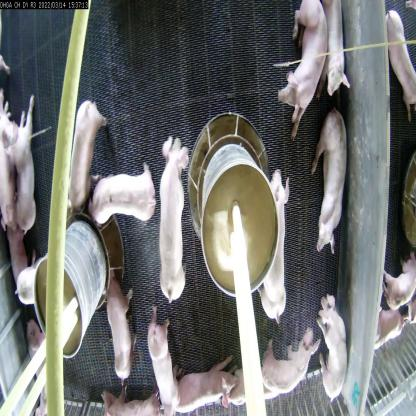Pig: (273, 0, 330, 139), (86, 167, 178, 242), (154, 135, 195, 299), (62, 88, 107, 230), (258, 170, 294, 328), (314, 110, 346, 264), (260, 330, 322, 403), (174, 356, 242, 416), (2, 102, 37, 216), (108, 278, 140, 398), (141, 313, 177, 415), (315, 302, 342, 400), (320, 0, 349, 88)
